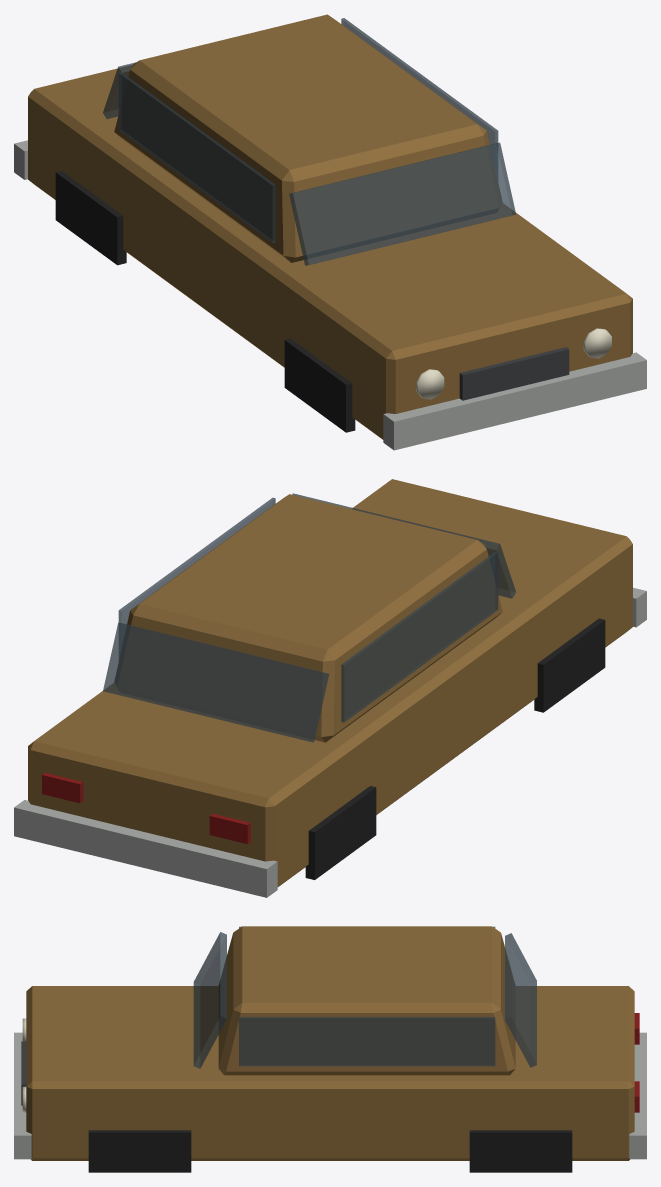
The model's file is sedan_body_ochre.glb.
3 views of the same model, one above another, from view 1: azimuth 30°, elevation 25°; view 2: azimuth 150°, elevation 25°; view 3: azimuth 270°, elevation 25° (orthographic). The views are drawn at different scales.
Parts seen in each view (by area): view 1: Body; view 2: Body; view 3: Body.
Boxes of the visible parts, left/top/right/bottom form: Body: left=14, top=14, right=646, bottom=450; Body: left=14, top=479, right=646, bottom=897; Body: left=14, top=926, right=646, bottom=1172.
Size of the model in its own units: 1.7 by 1.17 by 4.32.
